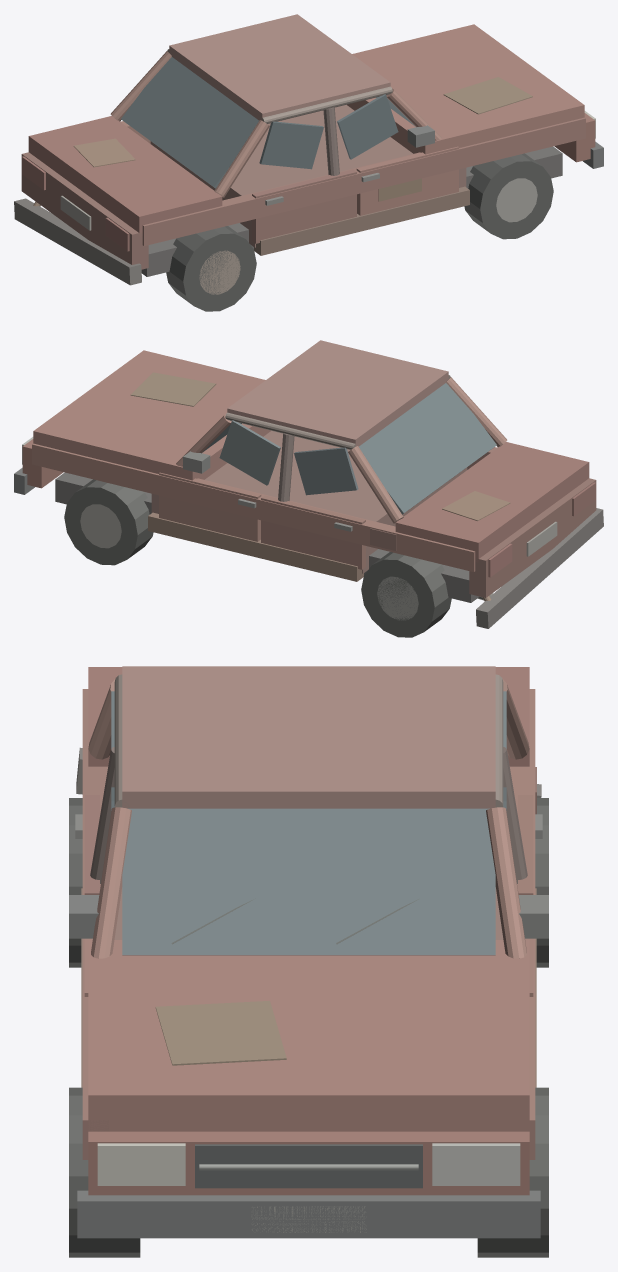
3 renders of one model, top to bottom at view 1: azimuth 30°, elevation 25°; view 2: azimuth 150°, elevation 25°; view 3: azimuth 270°, elevation 25°, orthographic. The views are drawn at different scales.
Visible parts, largest first — view 1: long_low_hood, low_cabin_roof, short_trunk_lid, left_upper_fender_and_belt, smoky_rear_windshield, rear_left_tire, central_lower_body, front_left_tire, rear_fascia, left_corroded_rocker, left_rear_door_skin, sagging_rear_bumper (+19 smaller); view 2: long_low_hood, low_cabin_roof, short_trunk_lid, right_upper_fender_and_belt, smoky_rear_windshield, central_lower_body, rear_right_tire, front_right_tire, rear_fascia, right_corroded_rocker, sagging_rear_bumper, right_rear_door_skin (+19 smaller); view 3: long_low_hood, smoky_front_windshield, low_cabin_roof, front_rubber_bumper, front_fascia, recessed_dark_front_grille, hood_exposed_corrosion, left_clouded_headlamp, right_clouded_headlamp, front_left_tire, front_right_tire, left_front_a_pillar (+17 smaller).
Boxes of the visible parts, <box> form: long_low_hood: <box>347,24,584,154</box>; low_cabin_roof: <box>169,14,390,120</box>; short_trunk_lid: <box>28,116,222,236</box>; left_upper_fender_and_belt: <box>142,117,585,245</box>; smoky_rear_windshield: <box>121,57,258,188</box>; rear_left_tire: <box>166,226,256,311</box>; central_lower_body: <box>150,104,466,247</box>; front_left_tire: <box>464,153,553,239</box>; rear_fascia: <box>21,152,148,269</box>; left_corroded_rocker: <box>254,186,469,255</box>; left_rear_door_skin: <box>252,169,356,243</box>; sagging_rear_bumper: <box>14,198,141,285</box>; long_low_hood: <box>33,350,270,480</box>; low_cabin_roof: <box>227,340,448,446</box>; short_trunk_lid: <box>395,442,589,562</box>; right_upper_fender_and_belt: <box>32,443,475,571</box>; smoky_rear_windshield: <box>359,383,496,514</box>; central_lower_body: <box>151,430,467,573</box>; rear_right_tire: <box>361,552,451,637</box>; front_right_tire: <box>64,479,153,565</box>; rear_fascia: <box>469,478,596,597</box>; right_corroded_rocker: <box>148,512,363,581</box>; sagging_rear_bumper: <box>476,508,603,628</box>; right_rear_door_skin: <box>261,495,365,569</box>; long_low_hood: <box>88,940,529,1131</box>; smoky_front_windshield: <box>122,808,495,955</box>; low_cabin_roof: <box>122,666,495,808</box>; front_rubber_bumper: <box>77,1190,540,1238</box>; front_fascia: <box>88,1131,529,1195</box>; recessed_dark_front_grille: <box>195,1144,422,1188</box>; hood_exposed_corrosion: <box>155,1001,286,1065</box>; left_clouded_headlamp: <box>97,1143,185,1185</box>; right_clouded_headlamp: <box>432,1143,520,1185</box>; front_left_tire: <box>69,1087,140,1257</box>; front_right_tire: <box>477,1087,548,1257</box>; left_front_a_pillar: <box>91,807,131,958</box>.
Bounding box in the file's own units: 3.99 × 1.4 × 1.75.
